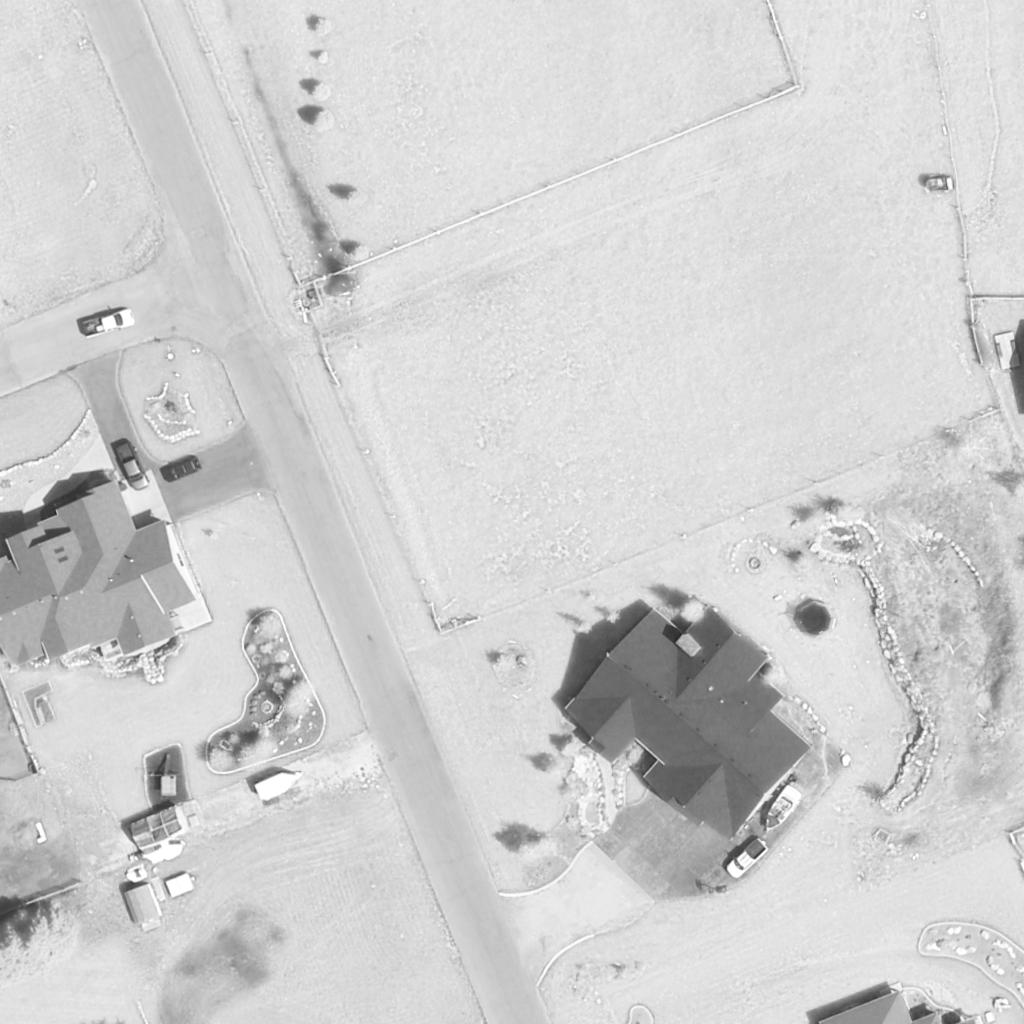vehicle: (758, 785, 806, 837), (112, 438, 152, 492), (723, 838, 771, 880), (77, 306, 135, 338), (252, 768, 302, 804), (159, 455, 203, 483)
